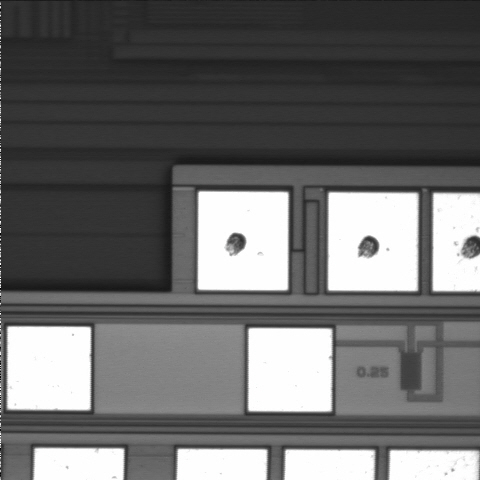pad: (198, 192, 288, 290), (328, 193, 418, 291), (7, 327, 91, 410), (248, 328, 332, 411)
